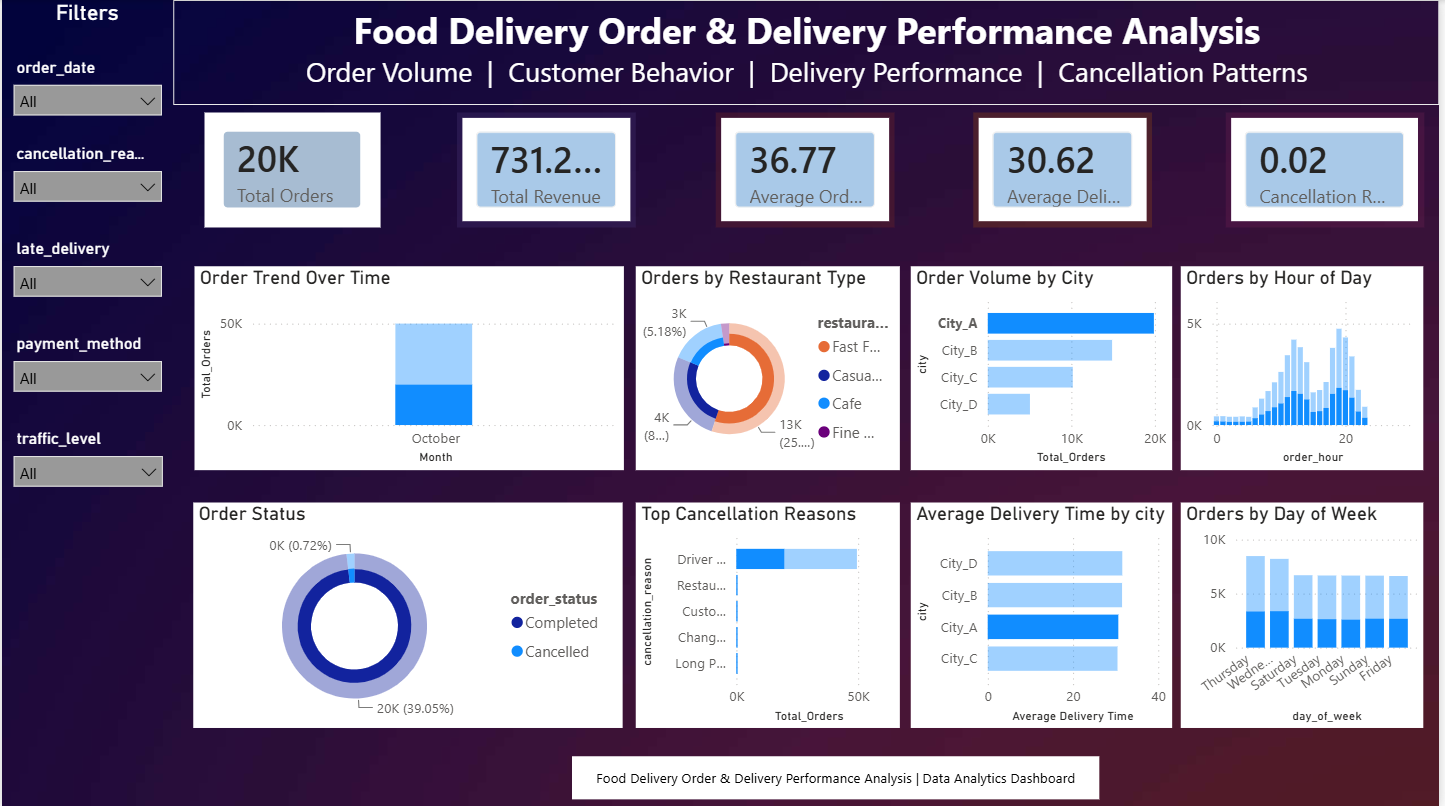

What the dashboard file says about the page in this screenshot:
{"tool":"powerbi","page":{"name":"Page 1","canvas":[1280,720],"ordinal":0},"visuals":[{"type":"textbox","box":[152,0,1128.4,93.7],"z":1},{"type":"shape","title":"Filters","box":[0,0,152,720.4],"z":2},{"type":"slicer","fields":{"Values":["cleaned_dataset (2).order_date"]},"box":[0,46.5,152.3,76.7],"z":3},{"type":"slicer","fields":{"Values":["cleaned_dataset (2).cancellation_reason"]},"box":[0,123.3,152.3,96.5],"z":4},{"type":"slicer","fields":{"Values":["cleaned_dataset (2).late_delivery"]},"box":[0,208.1,152.3,84.9],"z":5},{"type":"slicer","fields":{"Values":["cleaned_dataset (2).payment_method"]},"box":[0,293,152.3,83.7],"z":6},{"type":"slicer","fields":{"Values":["cleaned_dataset (2).traffic_level"]},"box":[0,377.9,153.3,81.9],"z":7},{"type":"cardVisual","fields":{"Data":["cleaned_dataset (2).Total Revenue"]},"box":[404.7,100,159.3,102.3],"z":9},{"type":"cardVisual","fields":{"Data":["cleaned_dataset (2).Average Order Value"]},"box":[636,100,159.3,102.3],"z":10},{"type":"cardVisual","fields":{"Data":["cleaned_dataset (2).Average Delivery Time"]},"box":[865.1,100,159.3,102.3],"z":11},{"type":"cardVisual","fields":{"Data":["cleaned_dataset (2).Cancellation Rate"]},"box":[1089.5,100,176.7,102.3],"z":12},{"type":"lineClusteredColumnComboChart","title":"Order Trend Over Time","fields":{"Category":["cleaned_dataset (2).order_date.Variation.Date Hierarchy.Month"],"Y":["cleaned_dataset (2).Total_Orders"]},"box":[170.9,237.2,382.6,181.4],"z":13},{"type":"donutChart","title":"Orders by Restaurant Type","fields":{"Category":["cleaned_dataset (2).restaurant_type"],"Y":["cleaned_dataset (2).Total_Orders"]},"box":[564,237.2,234.9,181.4],"z":14},{"type":"clusteredBarChart","title":"Order Volume by City","fields":{"Category":["cleaned_dataset (2).city"],"Y":["cleaned_dataset (2).Total_Orders"]},"box":[809.3,237.2,232.6,181.4],"z":15},{"type":"clusteredColumnChart","title":"Orders by Hour of Day","fields":{"Category":["cleaned_dataset (2).order_hour"],"Y":["cleaned_dataset (2).Total_Orders"]},"box":[1050,237.2,216.3,181.4],"z":16},{"type":"donutChart","title":"Order Status","fields":{"Category":["cleaned_dataset (2).order_status"],"Y":["cleaned_dataset (2).Total_Orders"]},"box":[169.8,447.7,382.6,201.2],"z":17},{"type":"barChart","title":"Top Cancellation Reasons","fields":{"Category":["cleaned_dataset (2).cancellation_reason"],"Y":["cleaned_dataset (2).Total_Orders"]},"box":[564,447.7,234.9,201.2],"z":18},{"type":"clusteredBarChart","fields":{"Category":["cleaned_dataset (2).city"],"Y":["cleaned_dataset (2).Average Delivery Time"]},"box":[809.3,447.7,232.6,201.2],"z":19},{"type":"columnChart","title":"Orders by Day of Week","fields":{"Category":["cleaned_dataset (2).day_of_week"],"Y":["cleaned_dataset (2).Total_Orders"]},"box":[1050,447.7,216.3,201.2],"z":20},{"type":"cardVisual","fields":{"Data":["cleaned_dataset (2).Total Orders"]},"box":[180.2,100,157,102.3],"z":21},{"type":"shape","box":[508.1,673.3,469.8,38.4],"z":22}]}

Visuals, with their boxes in screenshot pixels (x1, y1, x2, y2), scaled from the page's 1280x720 canvas onto the 1445x806 screenshot:
textbox: locate(172, 0, 1444, 105)
"Filters" shape: locate(0, 0, 172, 805)
slicer - cleaned_dataset (2).order_date: locate(0, 52, 172, 138)
slicer - cleaned_dataset (2).cancellation_reason: locate(0, 138, 172, 246)
slicer - cleaned_dataset (2).late_delivery: locate(0, 233, 172, 328)
slicer - cleaned_dataset (2).payment_method: locate(0, 328, 172, 422)
slicer - cleaned_dataset (2).traffic_level: locate(0, 423, 173, 515)
cardVisual - cleaned_dataset (2).Total Revenue: locate(457, 112, 637, 226)
cardVisual - cleaned_dataset (2).Average Order Value: locate(718, 112, 898, 226)
cardVisual - cleaned_dataset (2).Average Delivery Time: locate(977, 112, 1156, 226)
cardVisual - cleaned_dataset (2).Cancellation Rate: locate(1230, 112, 1429, 226)
"Order Trend Over Time" lineClusteredColumnComboChart: locate(193, 266, 625, 469)
"Orders by Restaurant Type" donutChart: locate(637, 266, 902, 469)
"Order Volume by City" clusteredBarChart: locate(914, 266, 1176, 469)
"Orders by Hour of Day" clusteredColumnChart: locate(1185, 266, 1430, 469)
"Order Status" donutChart: locate(192, 501, 624, 726)
"Top Cancellation Reasons" barChart: locate(637, 501, 902, 726)
clusteredBarChart - cleaned_dataset (2).city x cleaned_dataset (2).Average Delivery Time: locate(914, 501, 1176, 726)
"Orders by Day of Week" columnChart: locate(1185, 501, 1430, 726)
cardVisual - cleaned_dataset (2).Total Orders: locate(203, 112, 381, 226)
shape: locate(574, 754, 1104, 797)
